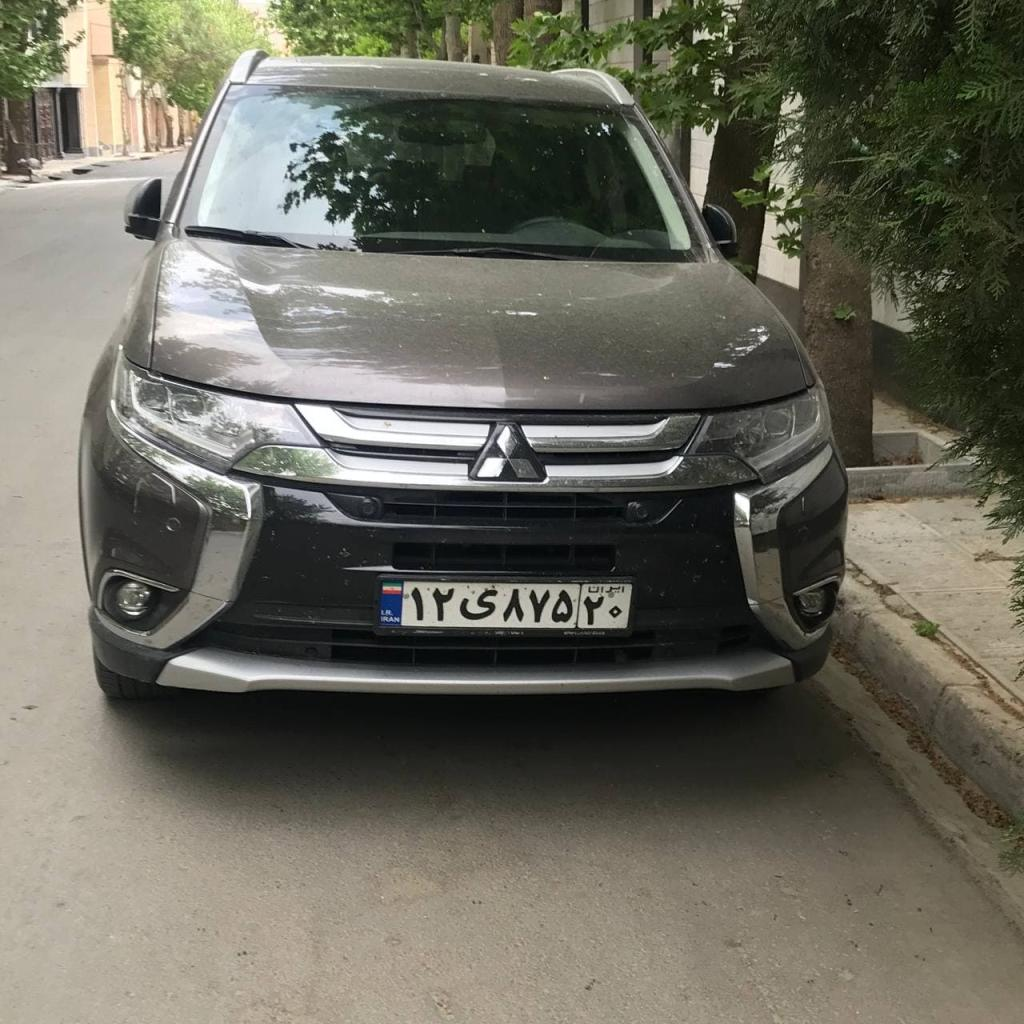Plates: (378, 581, 633, 627)
